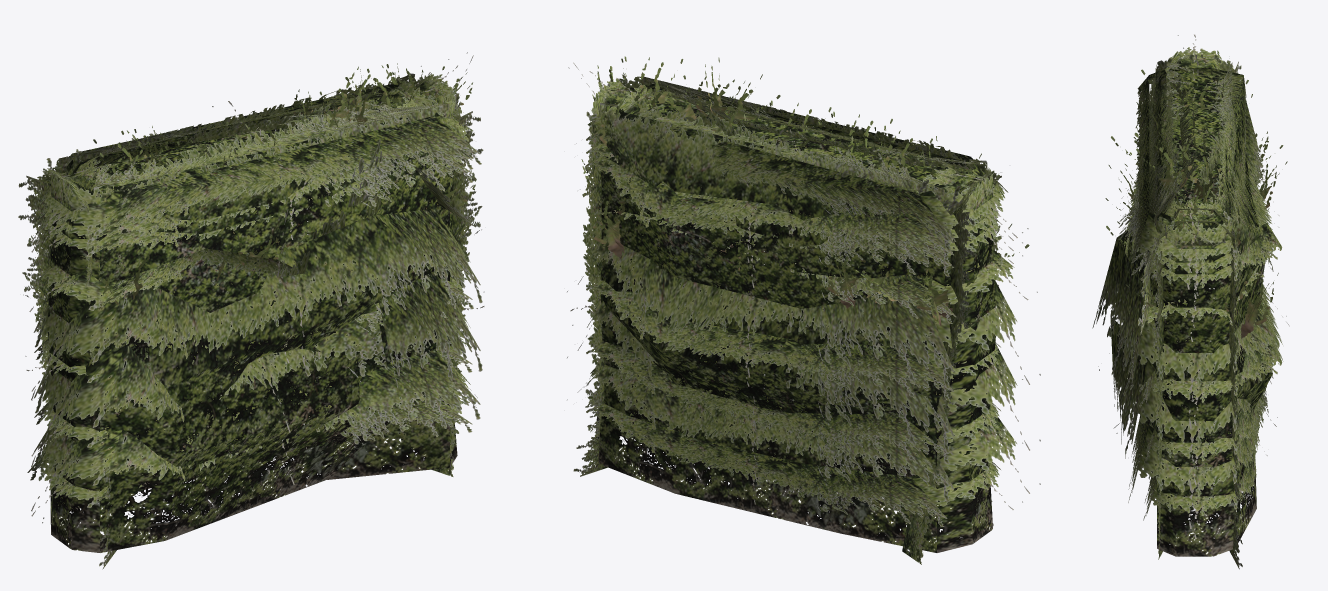
Rendered from sm_hedge_01.fbx.
The picture shows the model from 3 angles, left to right: view 1: azimuth 30°, elevation 25°; view 2: azimuth 150°, elevation 25°; view 3: azimuth 270°, elevation 25°; orthographic projection. The views are drawn at different scales.
Parts seen in each view (by area): view 1: sm_hedge_01; view 2: sm_hedge_01; view 3: sm_hedge_01.
Part boxes in pixels (x1,y1,x2,y2): sm_hedge_01: (18,52,484,569); sm_hedge_01: (567,56,1040,564); sm_hedge_01: (1092,34,1289,569).
Bounding box in the file's own units: 432 × 396 × 201.
Materials: 2 (2 with a texture image).
